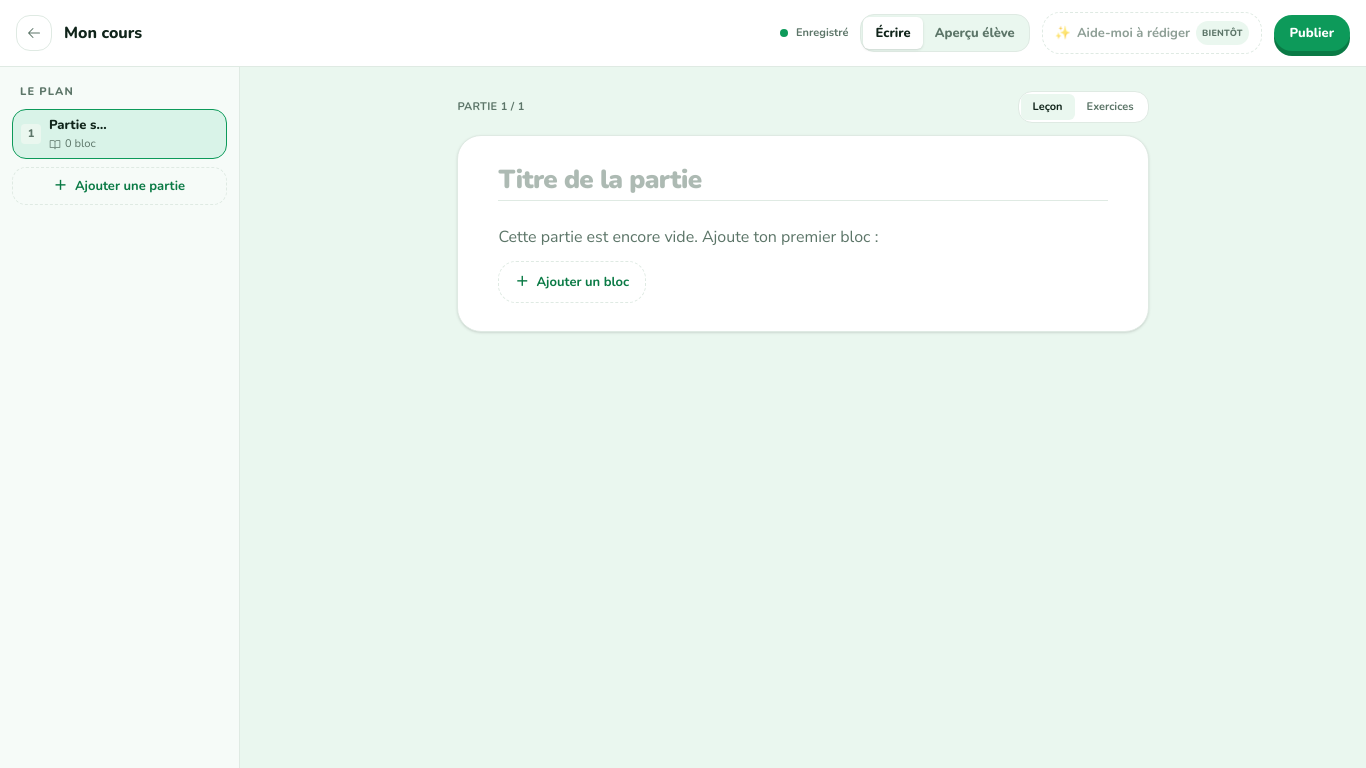
Scenario: EditeurCours — préréglage Vrai/Faux et bouton IA dormant › insère un QCM pré-rempli « Vrai » / « Faux » depuis le menu « + »
Expected: the field named "Titre du cours" is shown, [64,21,768,45]
Click the button with aria-label "Ajouter un bloc ici". click: (572, 282)
box: [498,261,646,303]
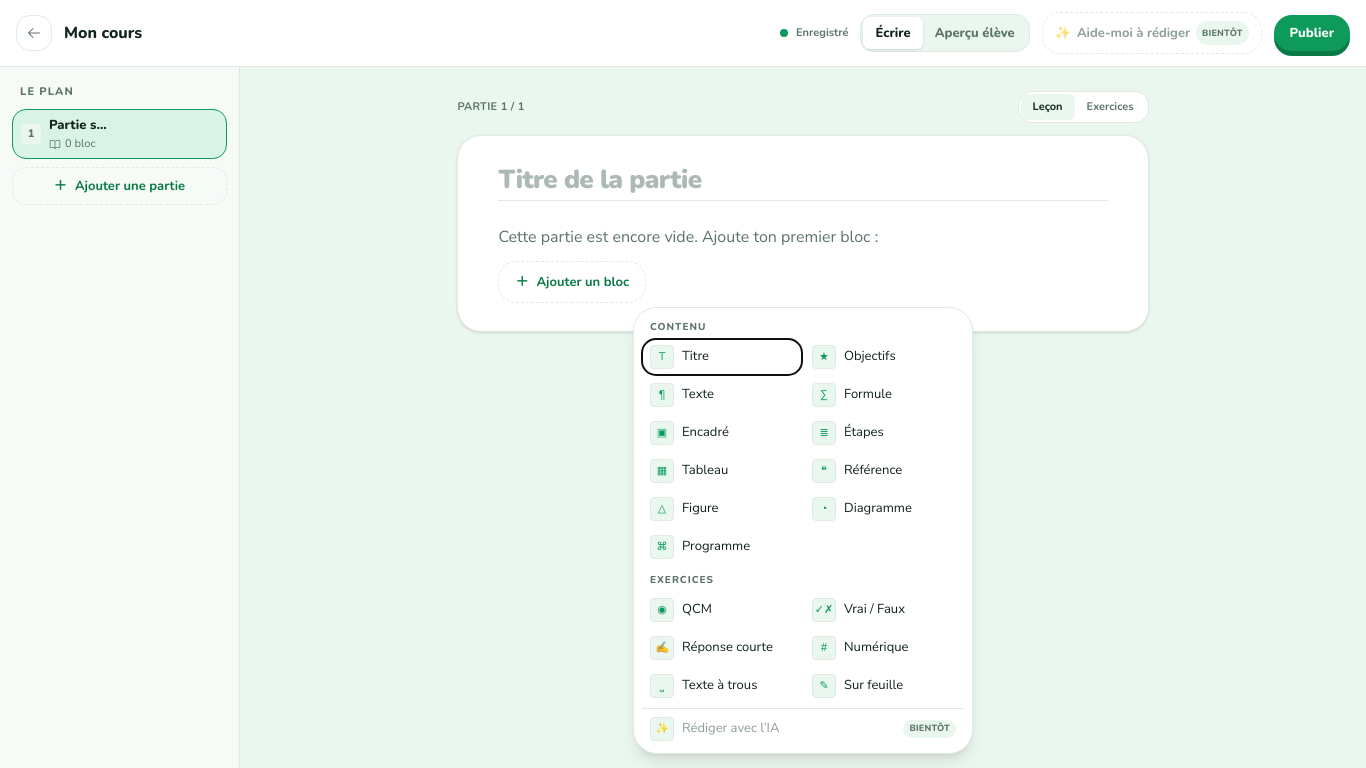
Click the menu item "✓✗ Vrai / Faux". click: (884, 610)
box: [804,592,964,628]
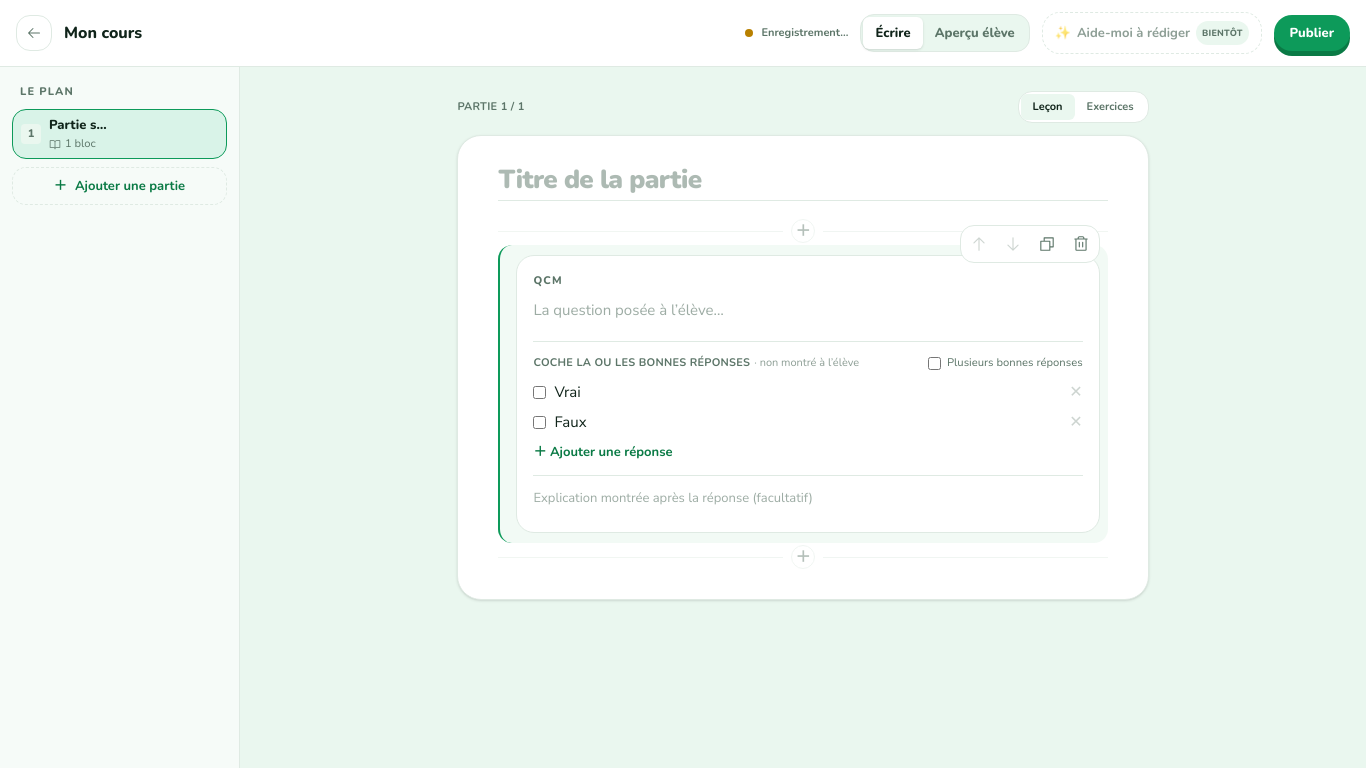
Expected: the 2nd field showing "Faux" is shown, [554,410,1061,434]
Expected: the 1st field with placeholder "Réponse 1" is shown, [554,380,1061,404]
